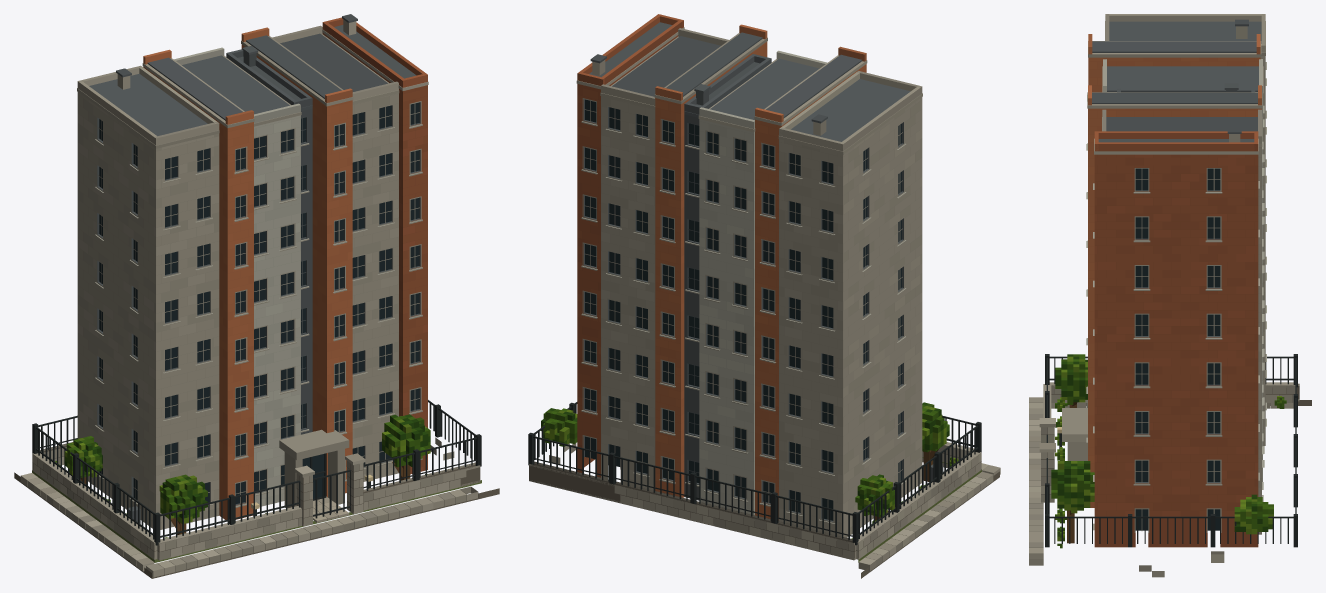
The model's file is SM_StreetFrontage_124.fbx.
The picture shows the model from 3 angles, left to right: view 1: azimuth 30°, elevation 25°; view 2: azimuth 150°, elevation 25°; view 3: azimuth 270°, elevation 25°; orthographic projection. The views are drawn at different scales.
Visible parts, largest first — view 1: SM_StreetFrontage_124; view 2: SM_StreetFrontage_124; view 3: SM_StreetFrontage_124.
Boxes of the visible parts, x1,y1,x2,y2 form: SM_StreetFrontage_124: (14,14,499,578); SM_StreetFrontage_124: (528,14,1000,578); SM_StreetFrontage_124: (1029,14,1311,577).
Bounding box in the file's own units: 32 × 21.95 × 36.32.
